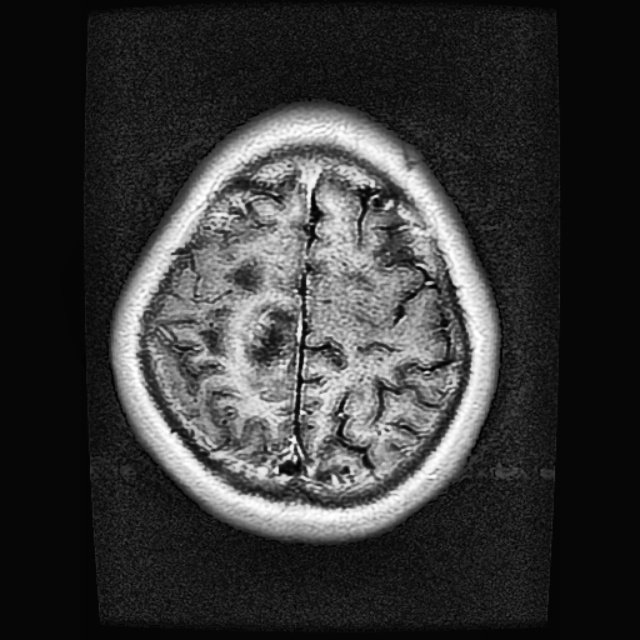Pituitary: (244, 302, 300, 373)
